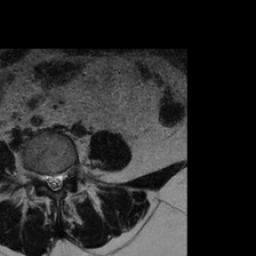CCS_stenosis: (51, 166, 58, 198)
LFS_normal: (63, 160, 71, 184)
LLS_normal: (58, 168, 64, 193)
RFS_normal: (36, 165, 43, 189)
RLS_normal: (43, 167, 51, 191)
